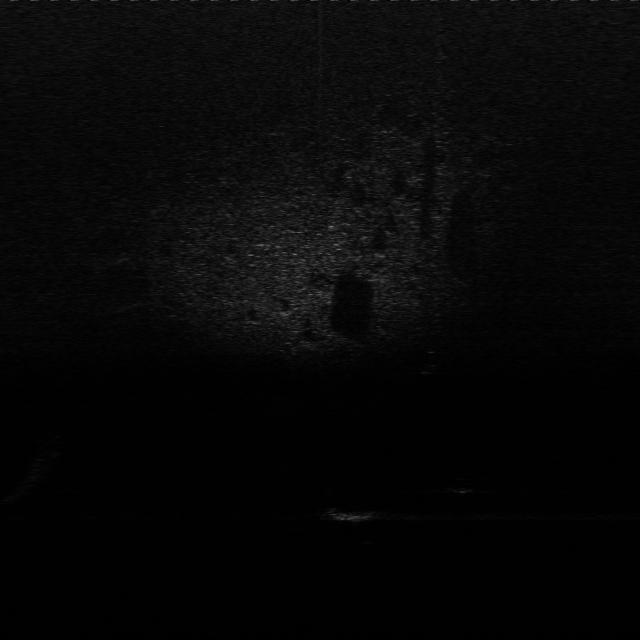ball: (450, 476, 476, 494)
square cage: (326, 493, 386, 525)
tyre: (418, 347, 441, 377)
